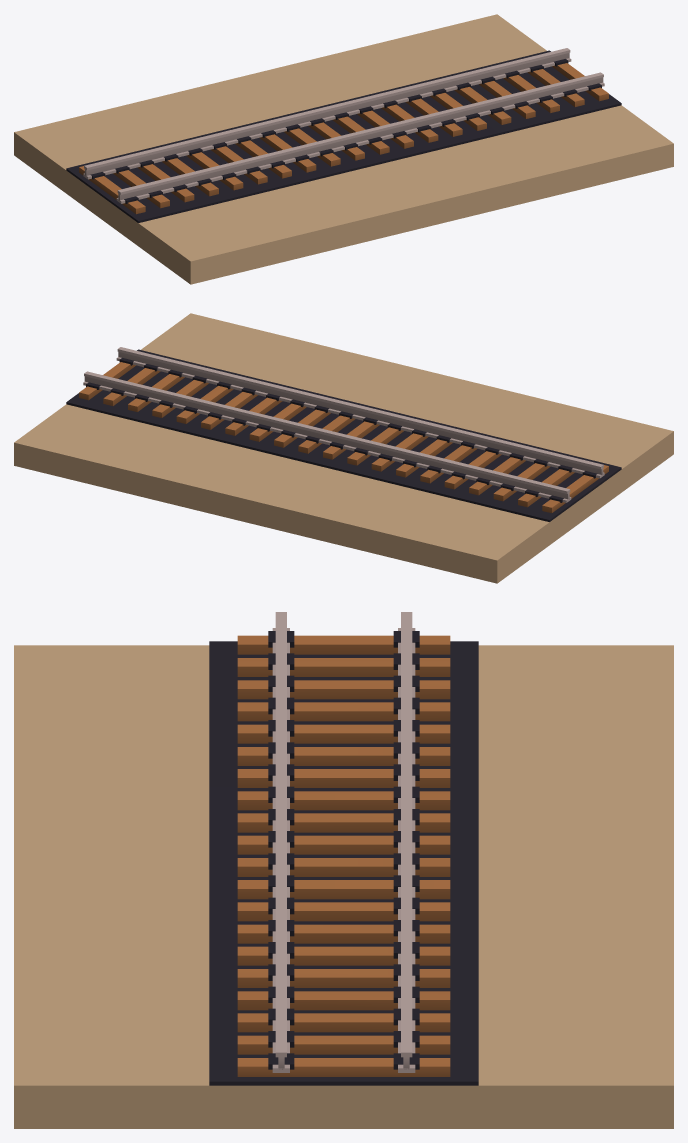
The model's file is kit.metro-track.lod1.glb.
The picture shows the model from 3 angles, top to bottom: view 1: azimuth 30°, elevation 25°; view 2: azimuth 150°, elevation 25°; view 3: azimuth 270°, elevation 25°; orthographic projection. The views are drawn at different scales.
Parts seen in each view (by area): view 1: body; view 2: body; view 3: body.
Part boxes in pixels (x1,y1,x2,y2): body: (14, 14, 673, 284); body: (14, 313, 673, 583); body: (14, 612, 673, 1128).
Size of the model in its own units: 12 by 0.9701 by 7.6.
